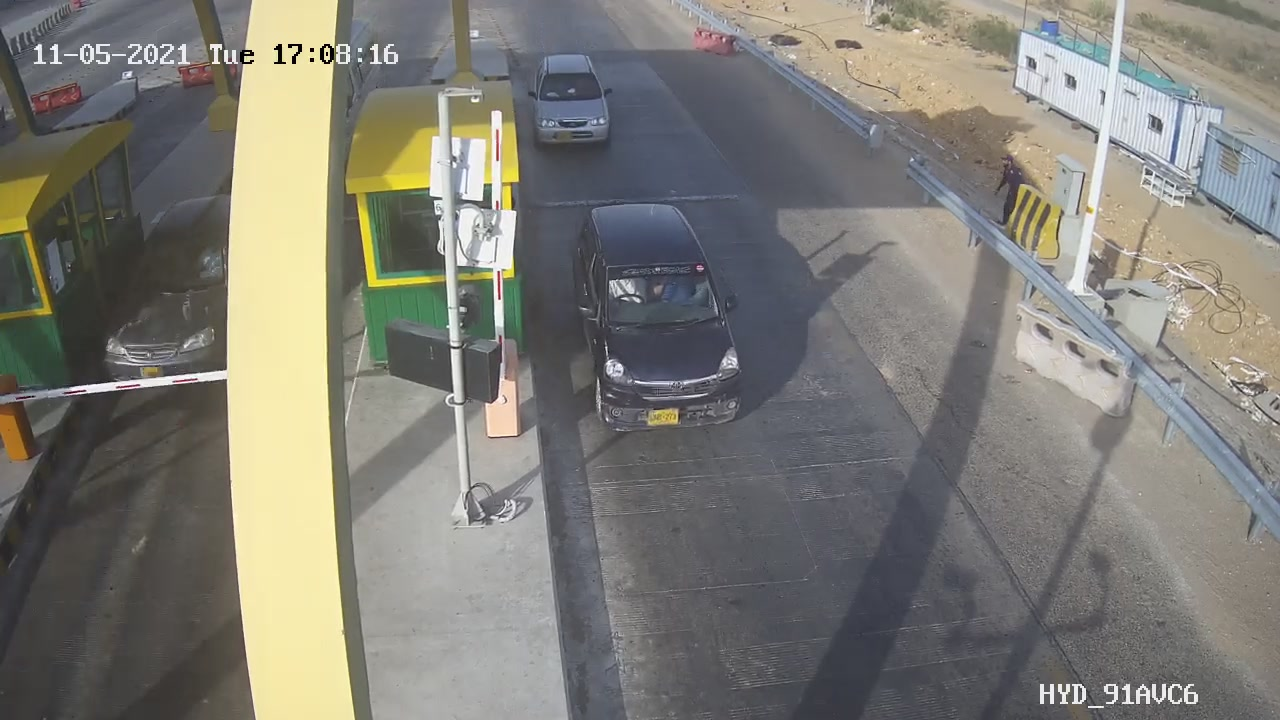F1: (548, 190, 768, 456), (513, 40, 633, 162)
